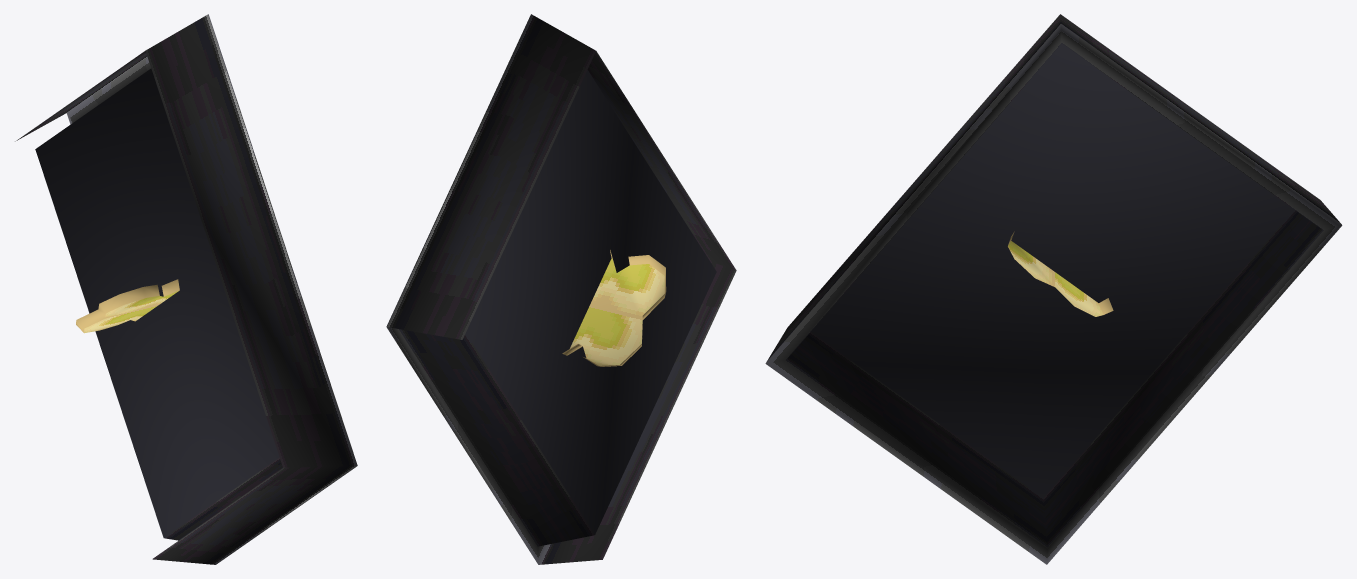
3 views of the same model, side by side, from view 1: azimuth 30°, elevation 25°; view 2: azimuth 150°, elevation 25°; view 3: azimuth 270°, elevation 25° (orthographic). The views are drawn at different scales.
Parts seen in each view (by area): view 1: 1050item521r; view 2: 1050item521r; view 3: 1050item521r.
Boxes of the visible parts, x1=… form: 1050item521r: x1=15, y1=14, x2=357, y2=564; 1050item521r: x1=386, y1=14, x2=736, y2=564; 1050item521r: x1=765, y1=14, x2=1342, y2=564.
Size of what is drawn, in the model's own units: 0.3093 by 1.33 by 1.29.
Materials: 2 (2 with a texture image).
